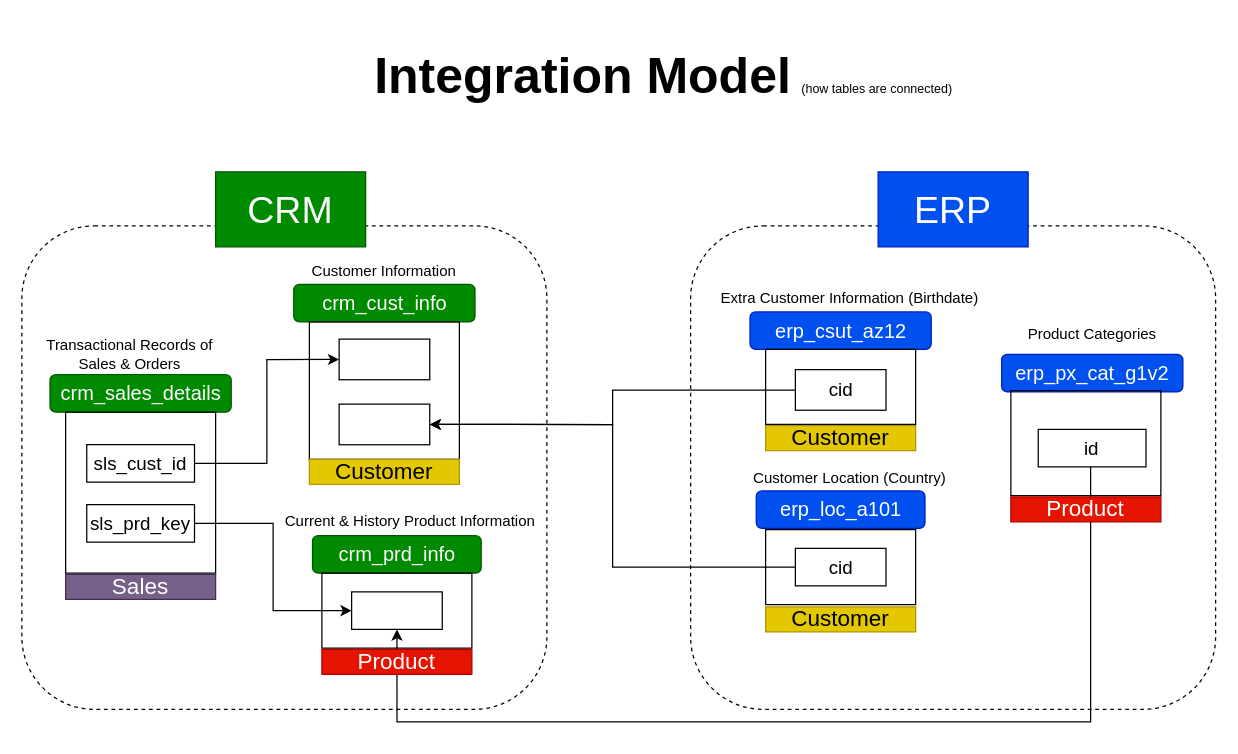
Image size: 1238x754. Some labels were removed from this diagram. Here are the shapes that lost their labels. From the top down, the centre of each, then its label:
(x=384, y=359): cust_id
(x=384, y=424): cust_key
(x=396, y=610): prd_key
